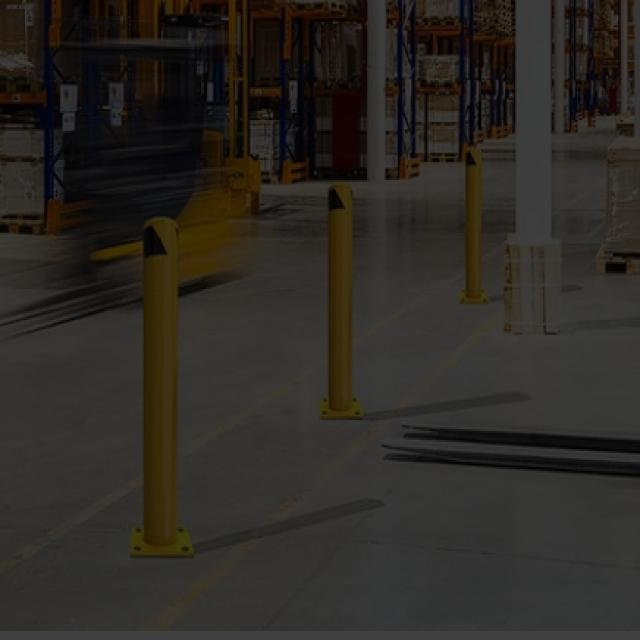Bollard: (134, 210, 184, 554), (320, 176, 360, 415), (460, 137, 490, 316)
